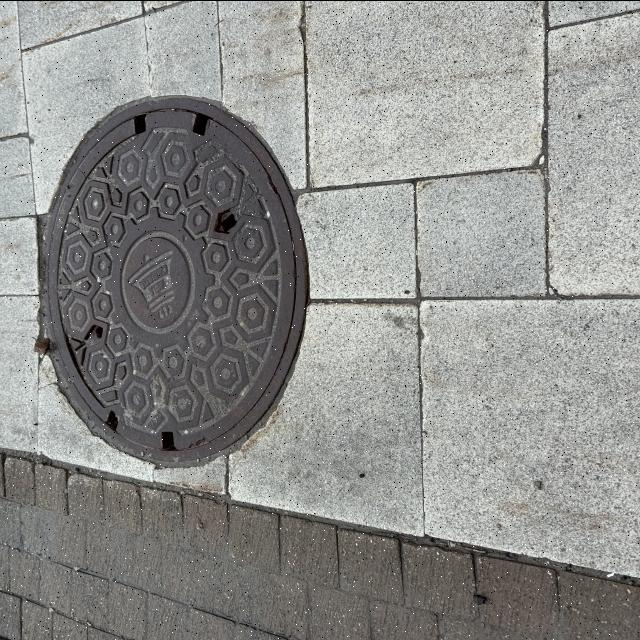Manhole: (42, 92, 306, 462)
